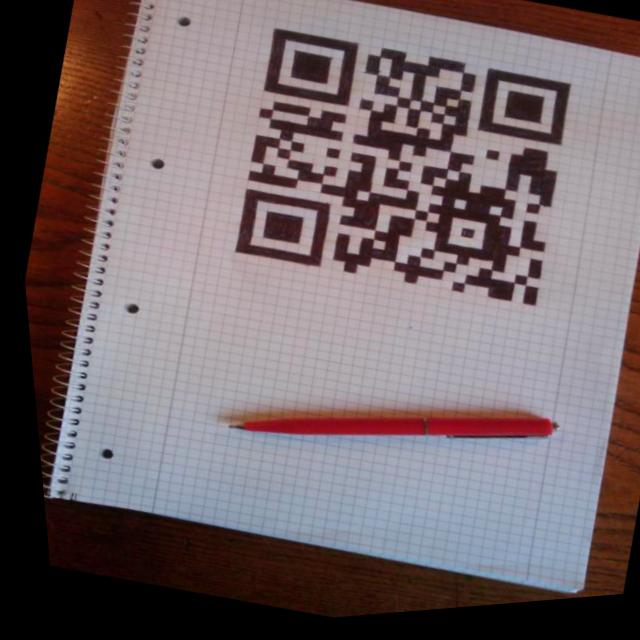qrcode: (215, 13, 588, 335)
